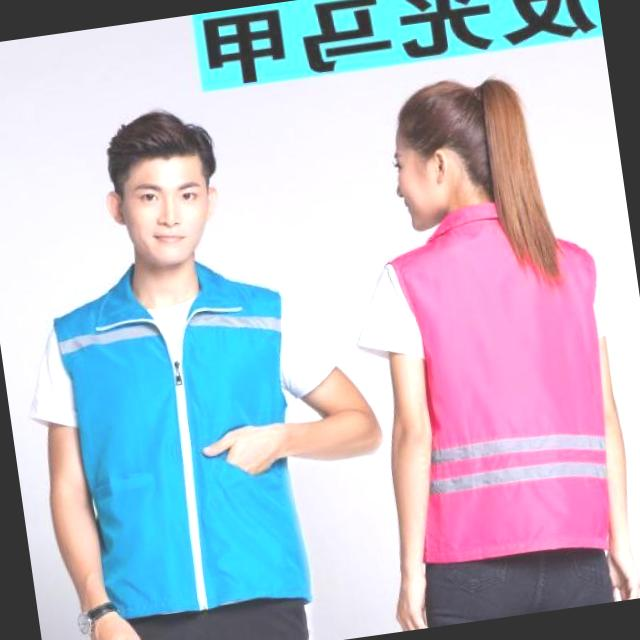vest: (28, 242, 331, 628), (366, 190, 636, 573)
